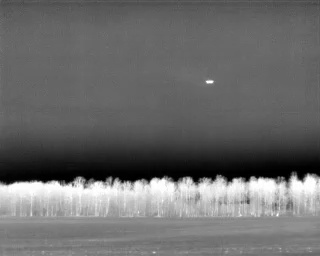DRONE: (202, 75, 218, 88)
